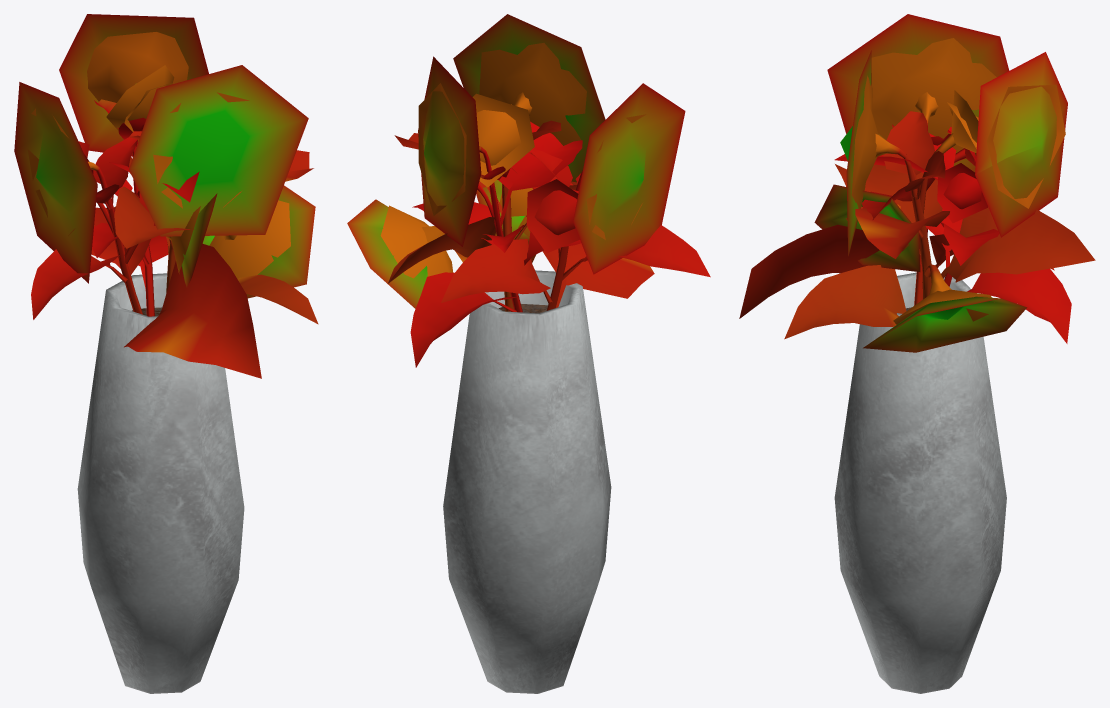
The model's file is SM_FlowersSummer_Environment.fbx.
3 renders of one model, left to right at view 1: azimuth 30°, elevation 25°; view 2: azimuth 150°, elevation 25°; view 3: azimuth 270°, elevation 25°, orthographic.
Visible parts, largest first — view 1: SM_Sunflower, SM_Vase_02; view 2: SM_Sunflower, SM_Vase_02; view 3: SM_Sunflower, SM_Vase_02.
Part boxes in pixels (x1,y1,x2,y2): SM_Sunflower: (14, 14, 318, 378); SM_Vase_02: (77, 273, 244, 693); SM_Sunflower: (347, 14, 710, 367); SM_Vase_02: (443, 270, 611, 693); SM_Sunflower: (739, 14, 1095, 352); SM_Vase_02: (834, 272, 1006, 693).
Bounding box in the file's own units: 38.33 × 74.23 × 38.58.
